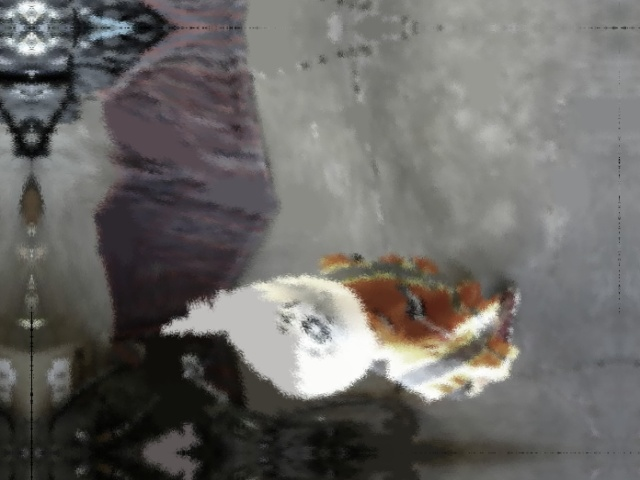eight: (285, 297, 341, 357)
